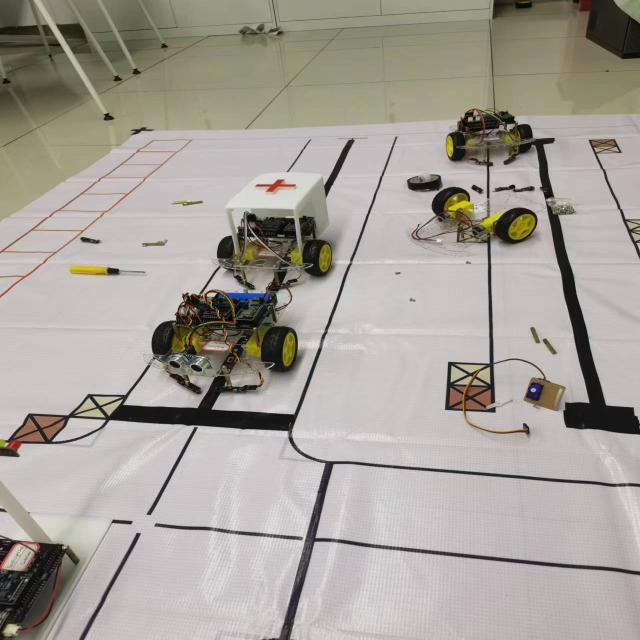RedCross: (254, 176, 298, 197)
